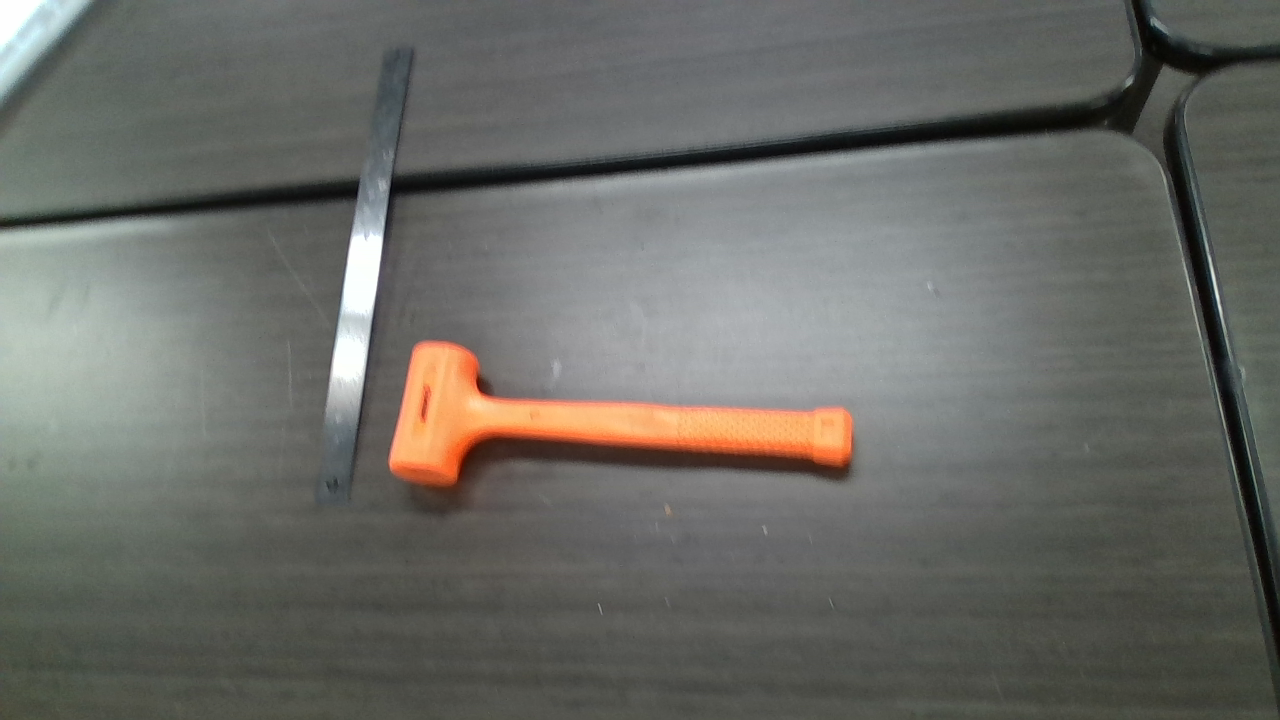Orange Hammer: (393, 342, 858, 486)
